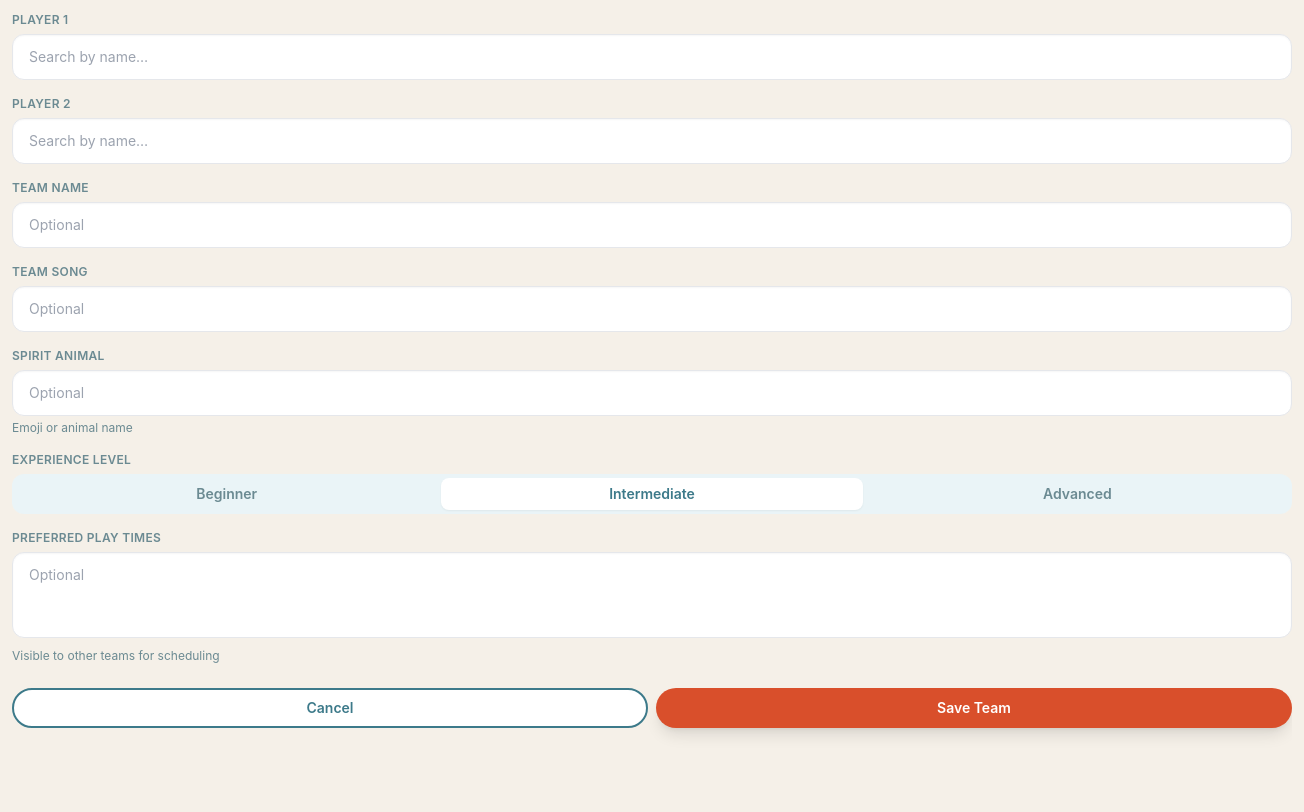
Test case: TeamForm player errors › marks the empty player invalid on save and clears it once a player is chosen
Click the button "Save Team" at (974,708), box [656, 688, 1292, 728]
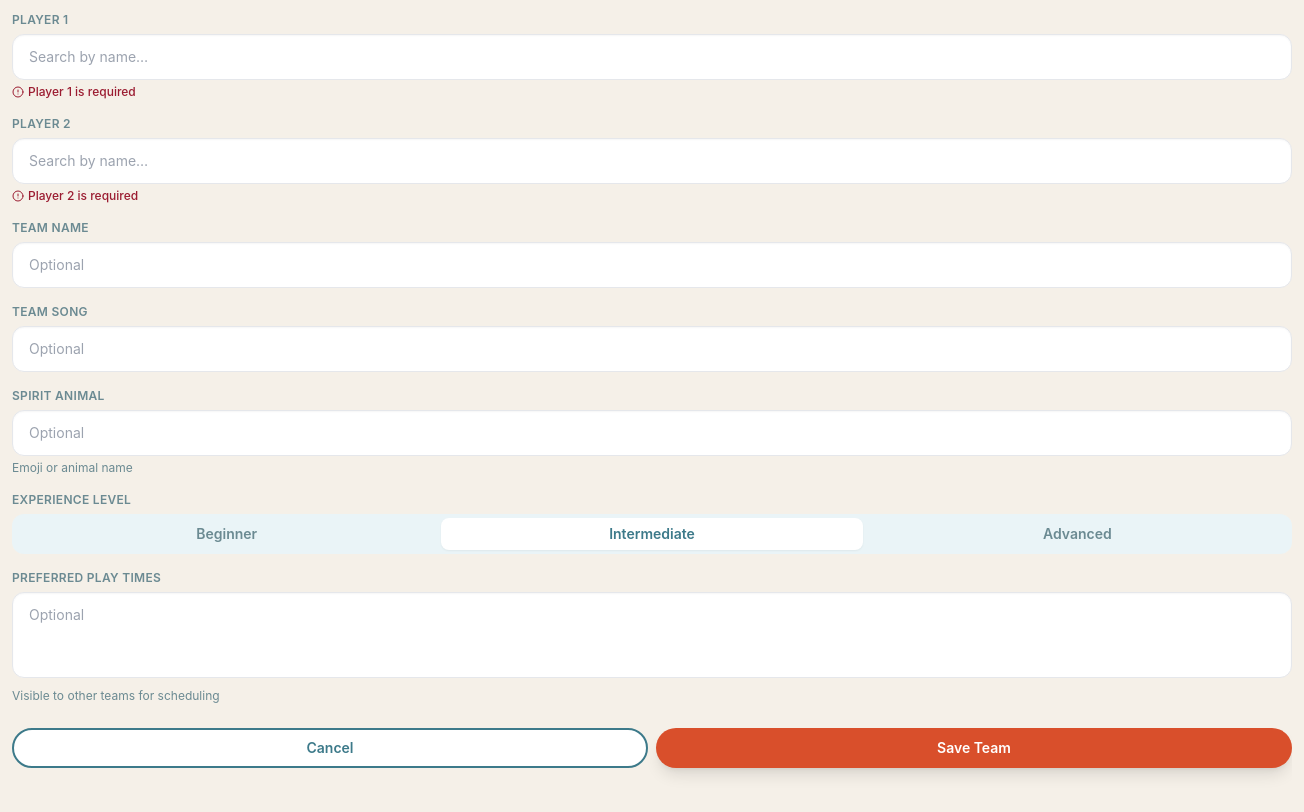
Focus the 1st field with placeholder "Search by name…" at (652,57), box [12, 34, 1292, 80]
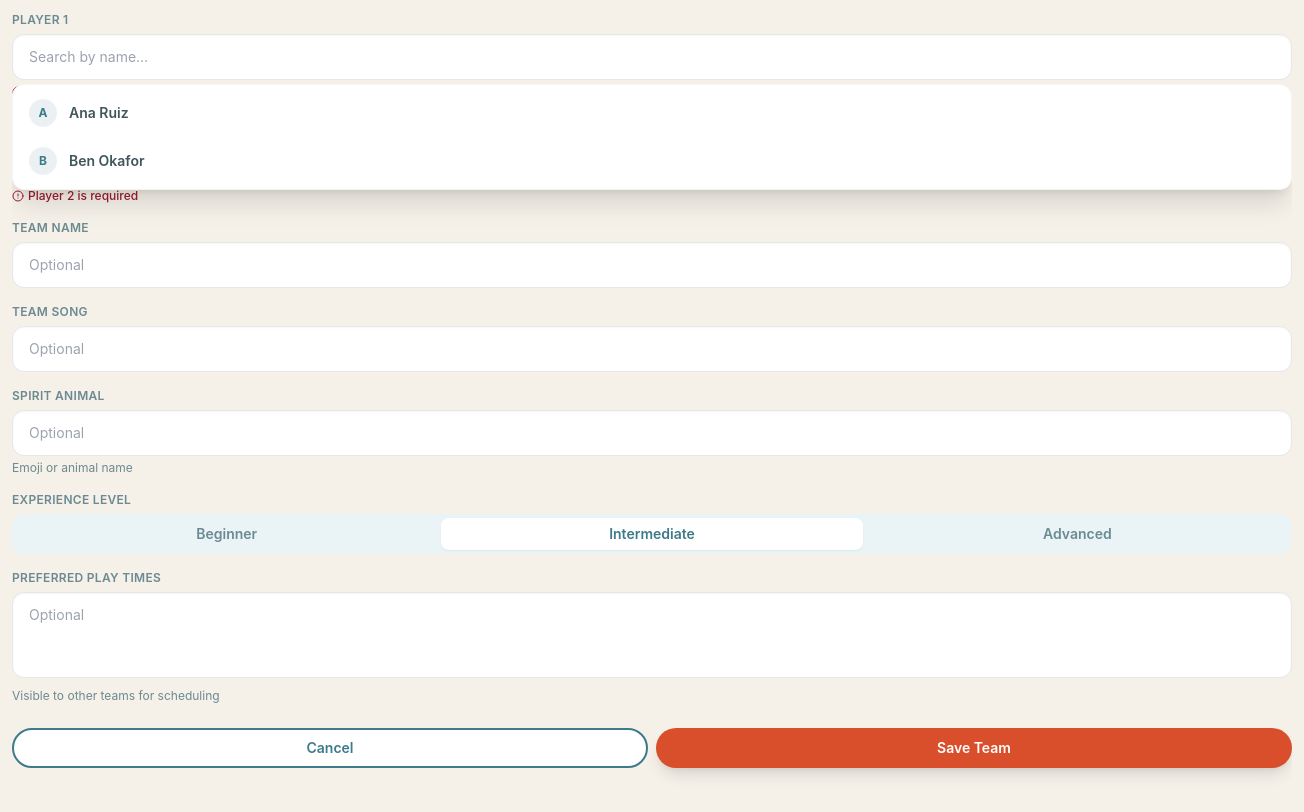
Click the menu item "A Ana Ruiz" at (99,112), box [13, 89, 1291, 137]
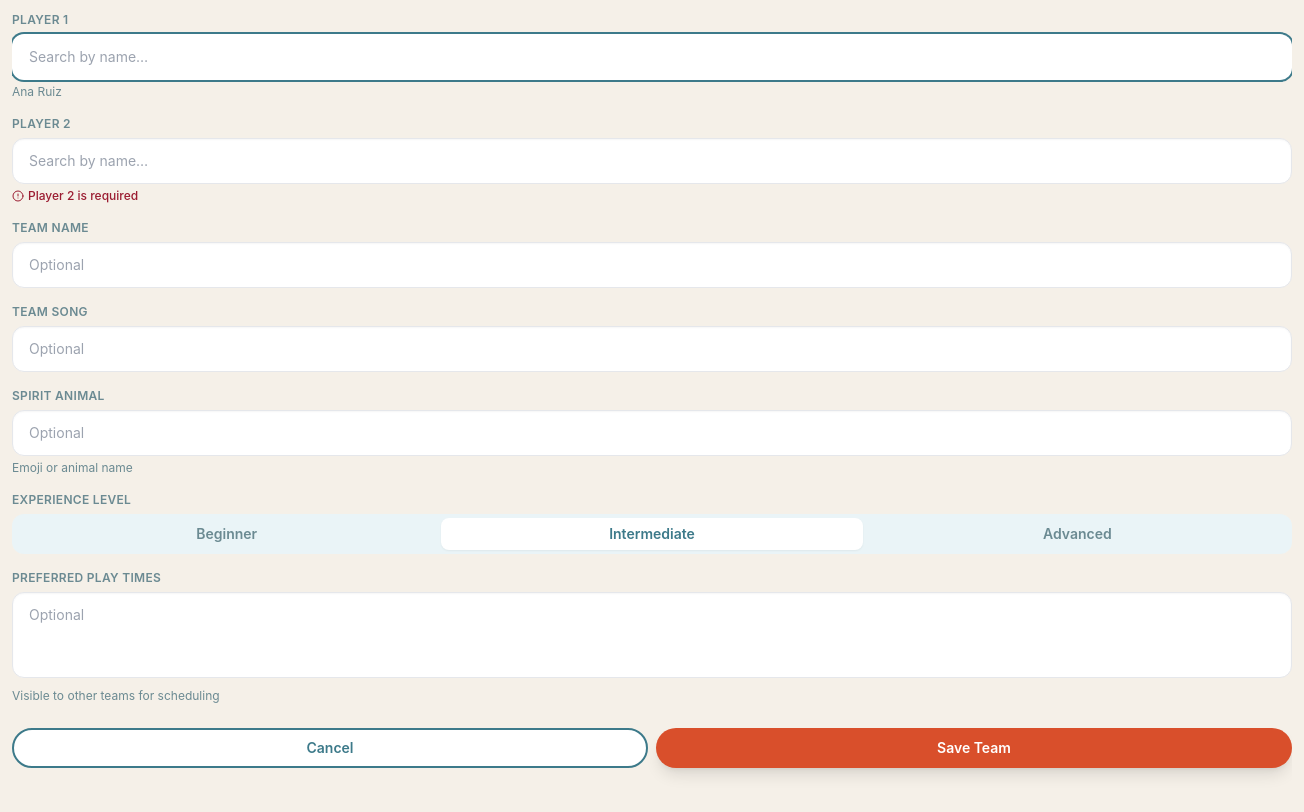
Now the text "Player 1 is required" is gone
